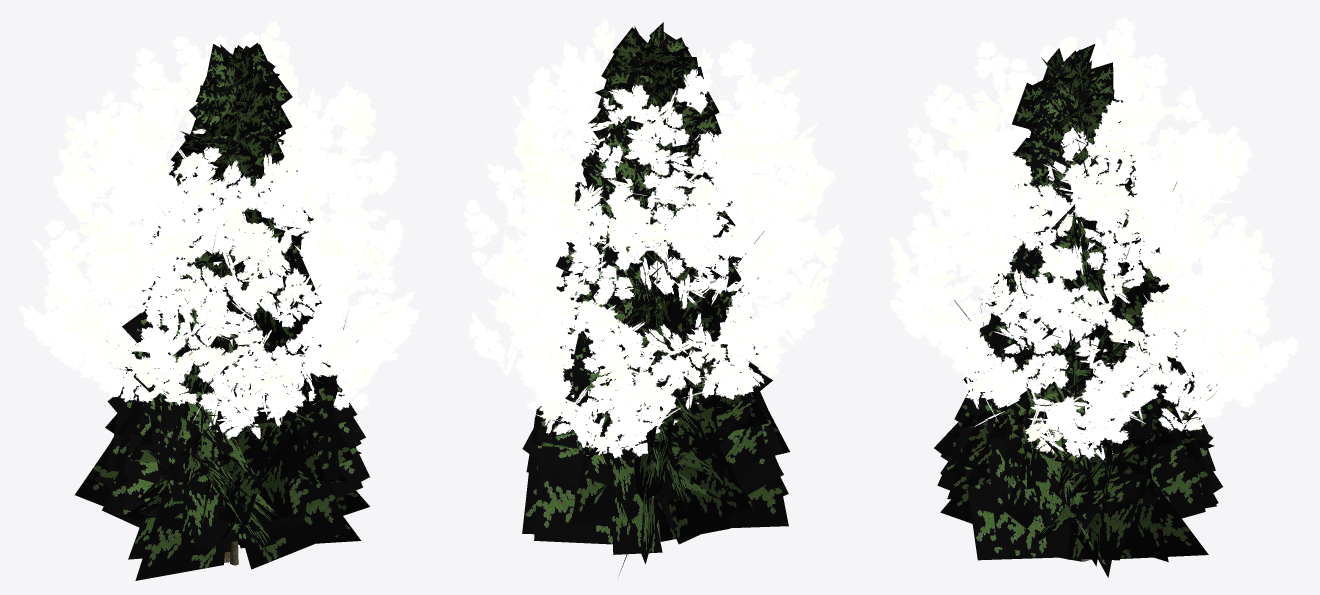
File: trees.glb
3 renders of one model, left to right at view 1: azimuth 30°, elevation 25°; view 2: azimuth 150°, elevation 25°; view 3: azimuth 270°, elevation 25°, orthographic. The views are drawn at different scales.
Parts seen in each view (by area): view 1: maple, spruce_1, spruce_2, spruce_0; view 2: maple, spruce_0, spruce_2, spruce_1; view 3: maple, spruce_0, spruce_1, spruce_2.
Part boxes in pixels (x1,y1,x2,y2): maple: [18, 21, 419, 562]; spruce_1: [102, 45, 369, 569]; spruce_2: [90, 43, 365, 559]; spruce_0: [75, 44, 369, 580]; maple: [463, 19, 844, 540]; spruce_0: [526, 26, 789, 544]; spruce_2: [522, 27, 788, 564]; spruce_1: [540, 22, 783, 574]; maple: [889, 17, 1298, 561]; spruce_0: [934, 44, 1222, 577]; spruce_1: [937, 48, 1188, 559]; spruce_2: [941, 50, 1218, 566].
Bounding box in the file's own units: 0.7532 × 1 × 0.749.
4 materials, 4 textured.
